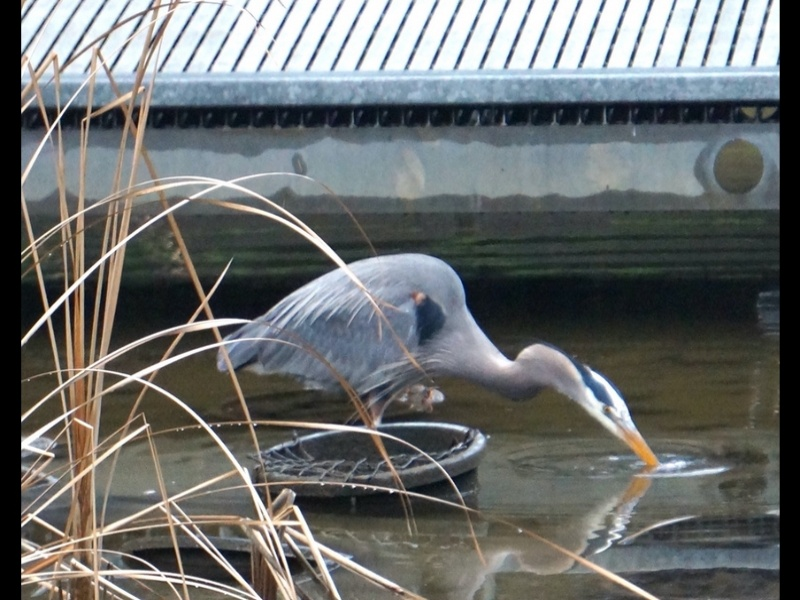heron: (222, 245, 677, 496)
